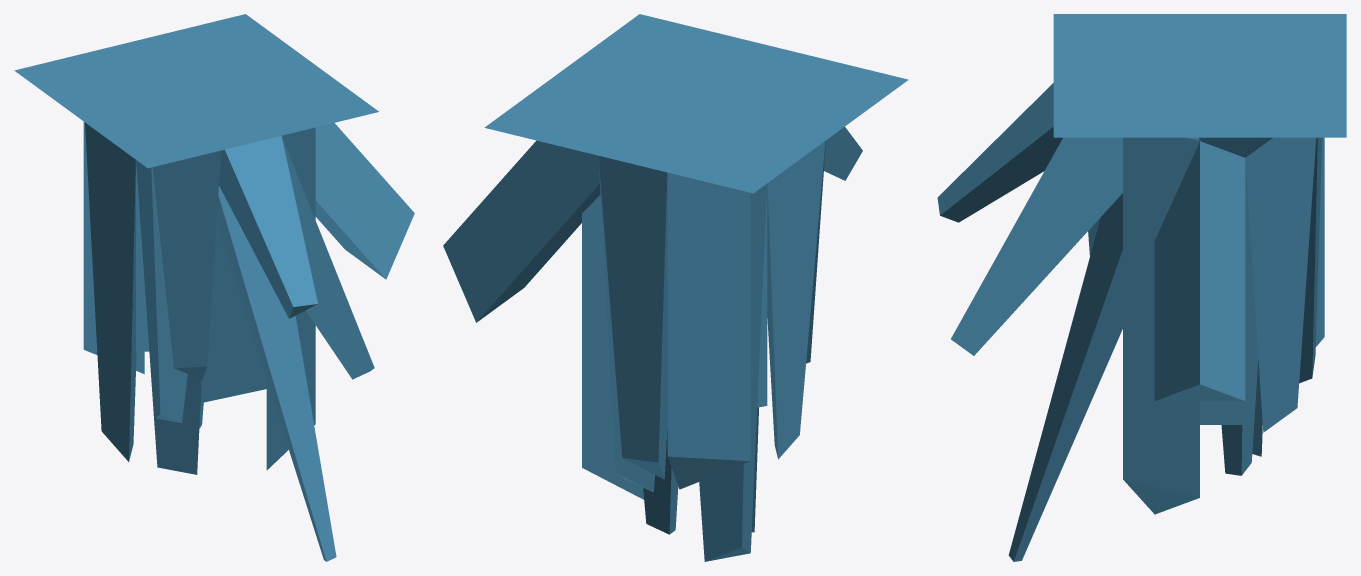
Rendered from Iceberg.fbx.
The picture shows the model from 3 angles, left to right: view 1: azimuth 30°, elevation 25°; view 2: azimuth 150°, elevation 25°; view 3: azimuth 270°, elevation 25°; orthographic projection. The views are drawn at different scales.
Parts seen in each view (by area): view 1: Iceberg; view 2: Iceberg; view 3: Iceberg.
Part boxes in pixels (box(x1,y1,x2,y2)): Iceberg: box(14, 14, 414, 561); Iceberg: box(443, 14, 908, 561); Iceberg: box(937, 14, 1346, 561).
Bounding box in the file's own units: 261 × 314 × 253.
Materials: 1 (1 with a texture image).
